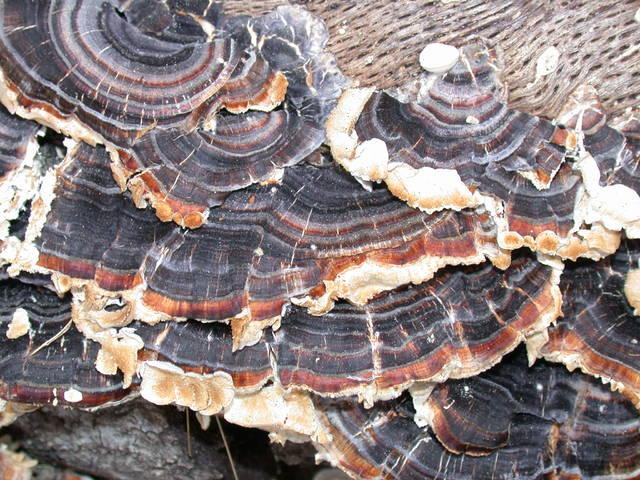poisonous_mushroom: (1, 1, 637, 477)
